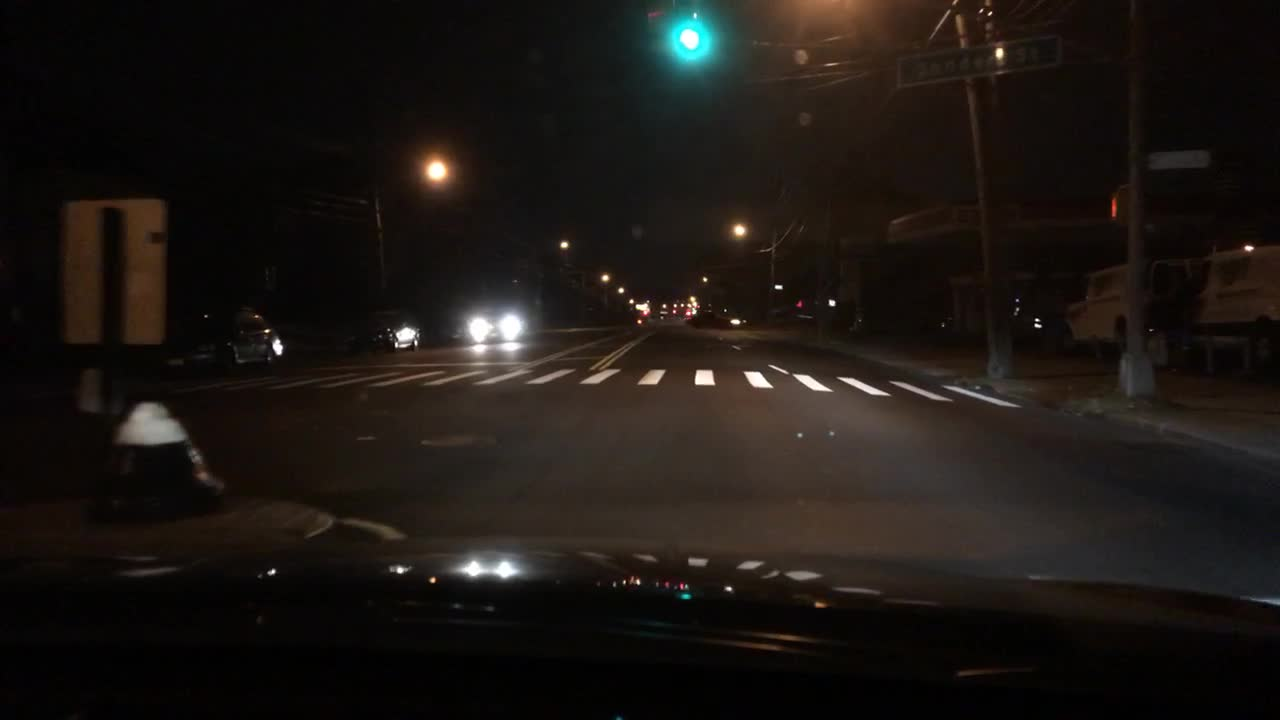car: (183, 306, 284, 365), (450, 292, 538, 345), (354, 316, 422, 351), (693, 297, 754, 326), (671, 294, 698, 319), (629, 296, 656, 319)
traffic light: (668, 18, 710, 61), (645, 6, 670, 55), (1107, 190, 1120, 220)
traffic sign: (60, 197, 168, 339), (897, 34, 1066, 90), (1151, 151, 1214, 169), (771, 281, 783, 290), (828, 297, 837, 307)
truck: (1162, 243, 1278, 372), (1056, 263, 1173, 360)
